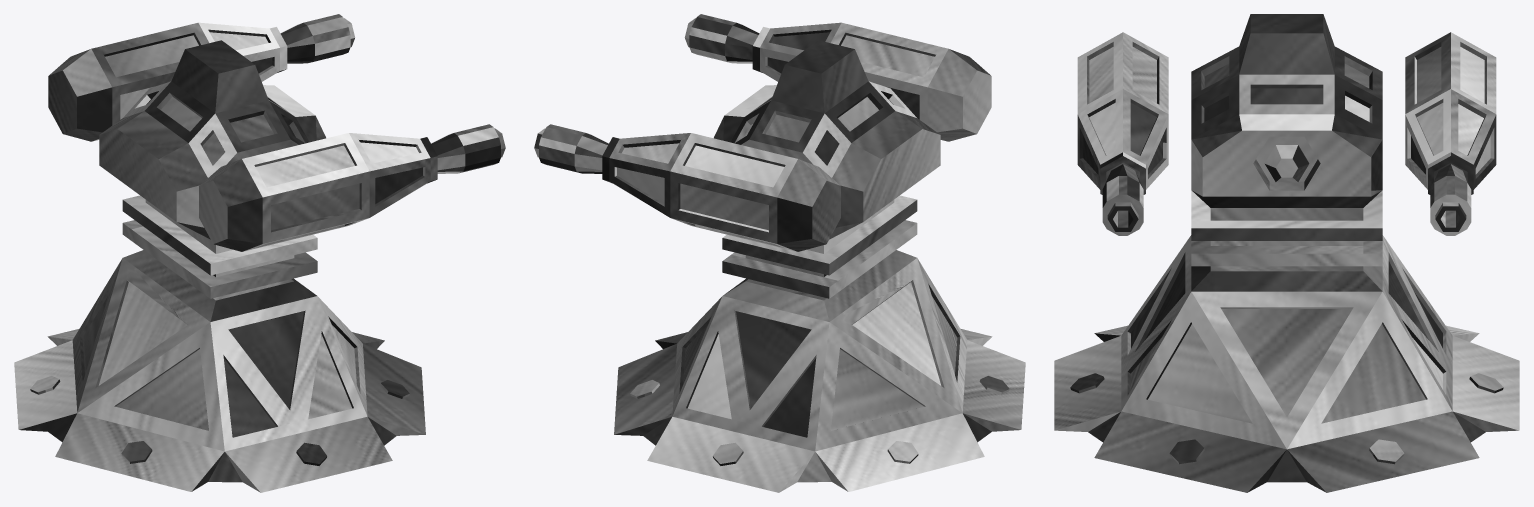
The model's file is TurretLegacy.obj.
3 renders of one model, left to right at view 1: azimuth 30°, elevation 25°; view 2: azimuth 150°, elevation 25°; view 3: azimuth 270°, elevation 25°, orthographic. The views are drawn at different scales.
Visible parts, largest first — view 1: Mesh1_FrontColor_0; view 2: Mesh1_FrontColor_0; view 3: Mesh1_FrontColor_0.
Part boxes in pixels (left/top/right/bottom): Mesh1_FrontColor_0: left=14, top=14, right=505, bottom=492; Mesh1_FrontColor_0: left=534, top=14, right=1025, bottom=492; Mesh1_FrontColor_0: left=1054, top=14, right=1519, bottom=492.
Bounding box in the file's own units: 1 × 0.847 × 0.9599.
